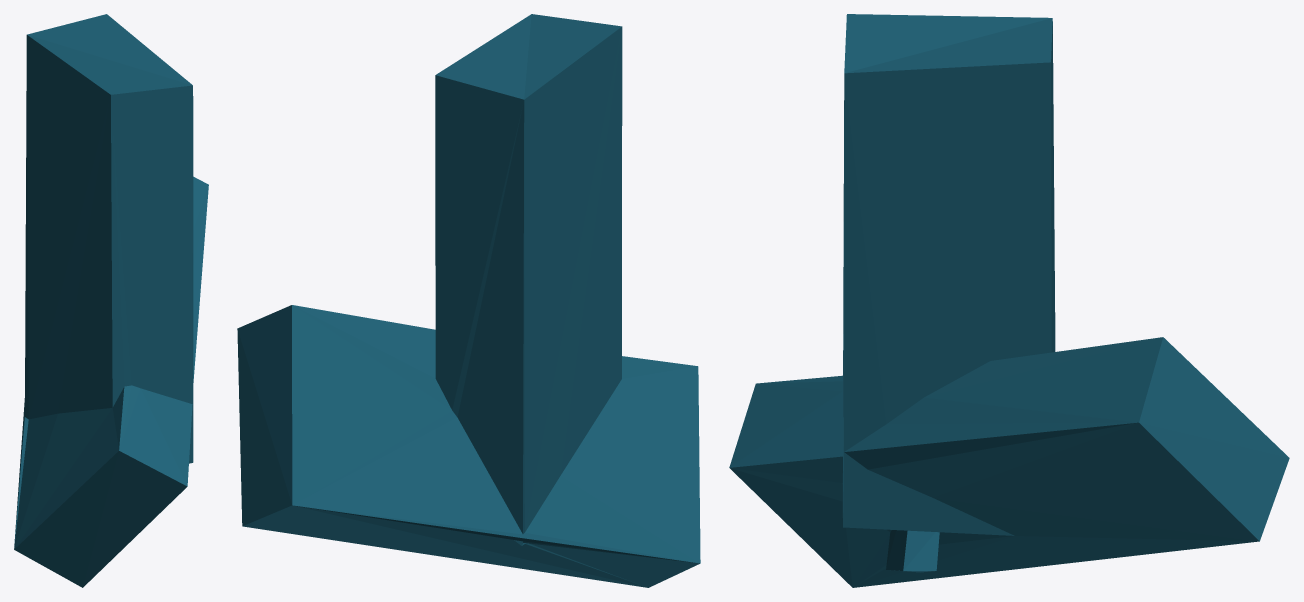
3 views of the same model, side by side, from view 1: azimuth 30°, elevation 25°; view 2: azimuth 150°, elevation 25°; view 3: azimuth 270°, elevation 25° (orthographic). The views are drawn at different scales.
Parts seen in each view (by area): view 1: 993_Cube.4007; view 2: 993_Cube.4007; view 3: 993_Cube.4007.
Boxes of the visible parts, <box> form: 993_Cube.4007: <box>14,14,208,587</box>; 993_Cube.4007: <box>237,14,700,587</box>; 993_Cube.4007: <box>729,14,1289,587</box>.
Size of the model in its own units: 9.76 by 15.07 by 13.
